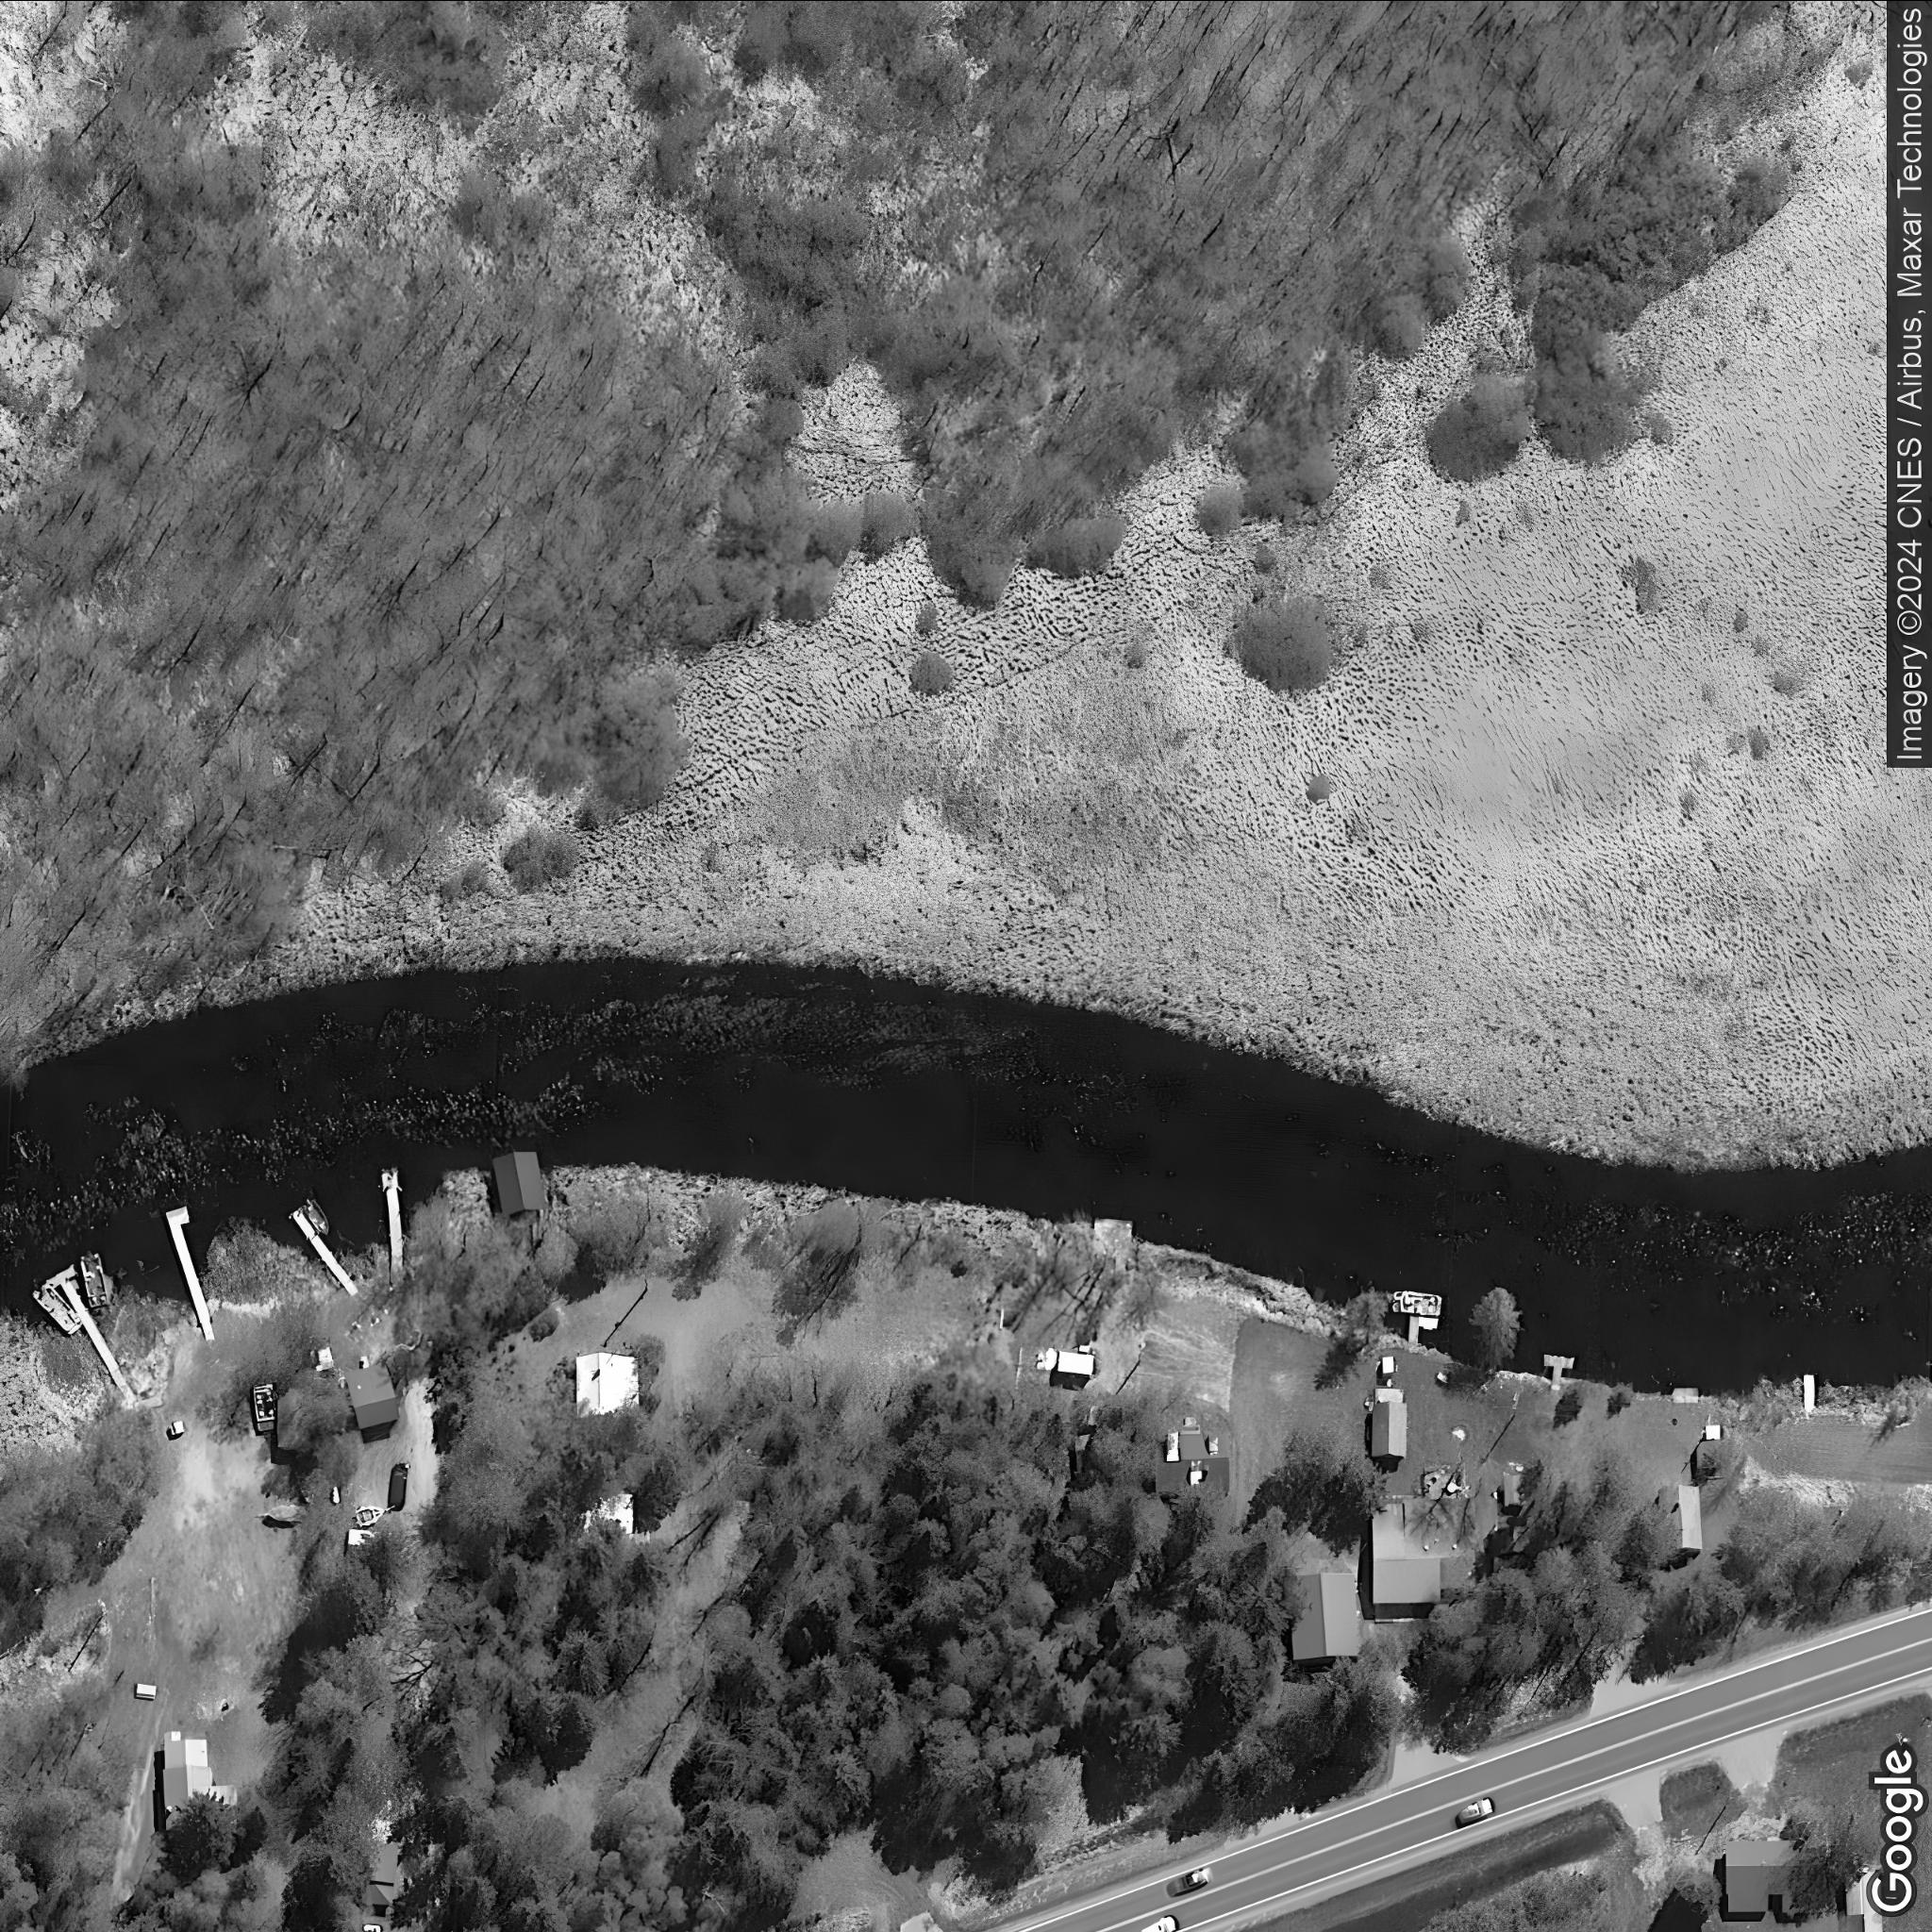Garage: (1289, 1571, 1362, 1663), (574, 1355, 639, 1420), (492, 1151, 546, 1216), (347, 1363, 398, 1431), (1666, 1484, 1703, 1551), (1369, 1399, 1408, 1458)
House: (1373, 1497, 1477, 1602), (164, 1730, 238, 1831), (1727, 1838, 1810, 1913), (1155, 1424, 1229, 1496), (358, 1840, 397, 1904), (1846, 1870, 1884, 1931)
Propane: (361, 1922, 384, 1932)
